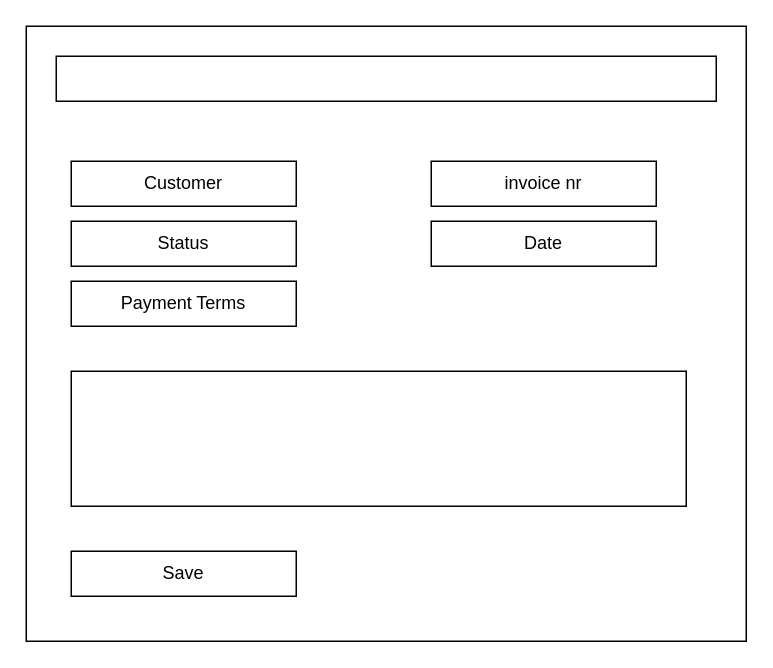
The diagram is 773 pixels wide and 668 high, and some of its shapes have lost their labels. The box of each missing label's shape, as (x1, y1, x2, y2) in pixels:
Invoice Lines items: (70, 370, 686, 506)
Logo: (55, 55, 716, 101)
